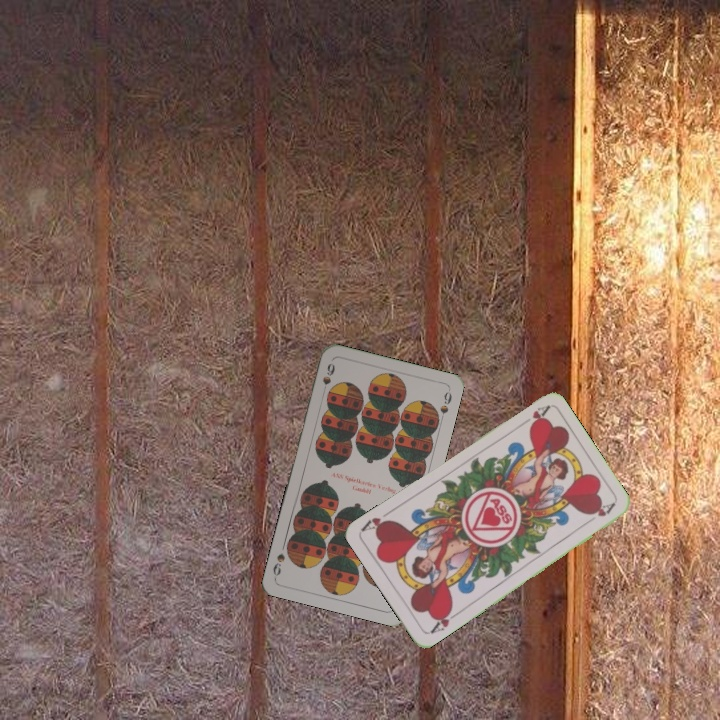HA: (426, 604, 461, 636), (515, 402, 551, 431)
S9: (318, 359, 337, 398)
